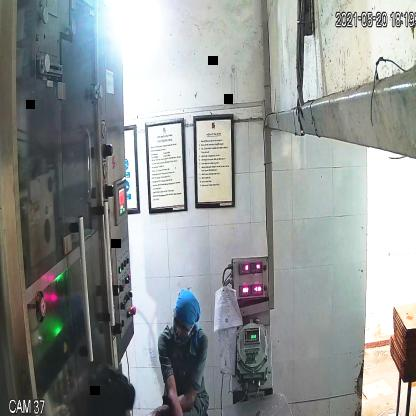goggles: (171, 310, 199, 338)
